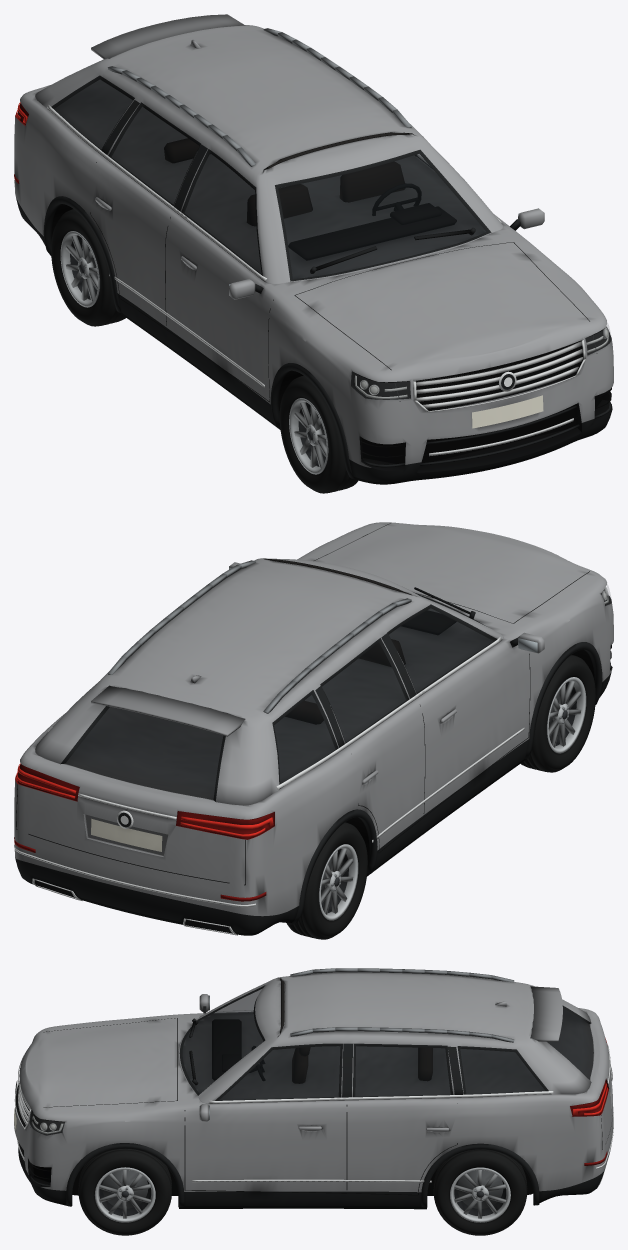
The model's file is volkswagen-touareg-v6-tdi.glb.
3 views of the same model, one above another, from view 1: azimuth 30°, elevation 25°; view 2: azimuth 150°, elevation 25°; view 3: azimuth 270°, elevation 25° (orthographic). The views are drawn at different scales.
Visible parts, largest first — view 1: Coachwork, Body, Wheel_FR, Wheel_RR, Plate; view 2: Coachwork, Body, Wheel_RR, Wheel_FR, Taillights, Plate; view 3: Coachwork, Body, Wheel_FL, Wheel_RL, Taillights.
Boxes of the visible parts, x1=… form: Coachwork: x1=14, y1=80, x2=613, y2=484; Body: x1=14, y1=14, x2=611, y2=479; Wheel_FR: x1=279, y1=375, x2=357, y2=493; Wheel_RR: x1=51, y1=209, x2=125, y2=326; Plate: x1=472, y1=395, x2=543, y2=428; Coachwork: x1=14, y1=522, x2=613, y2=935; Body: x1=14, y1=523, x2=611, y2=935; Wheel_RR: x1=286, y1=822, x2=367, y2=939; Wheel_FR: x1=520, y1=655, x2=595, y2=772; Taillights: x1=16, y1=763, x2=273, y2=839; Plate: x1=91, y1=818, x2=162, y2=851; Coachwork: x1=14, y1=1008, x2=613, y2=1209; Body: x1=14, y1=968, x2=613, y2=1207; Wheel_FL: x1=78, y1=1149, x2=171, y2=1235; Wheel_RL: x1=433, y1=1149, x2=527, y2=1235; Taillights: x1=570, y1=1039, x2=607, y2=1116.
Bounding box in the file's own units: 2.29 × 1.72 × 4.89.
